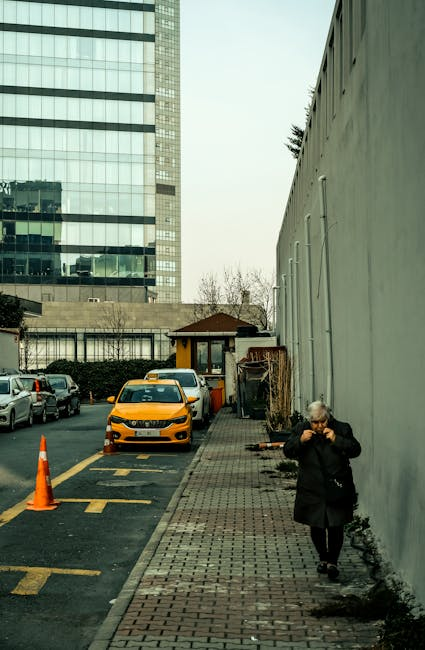traffic_cone: (25, 434, 60, 511), (36, 434, 61, 505), (102, 414, 119, 455), (88, 391, 94, 405)
